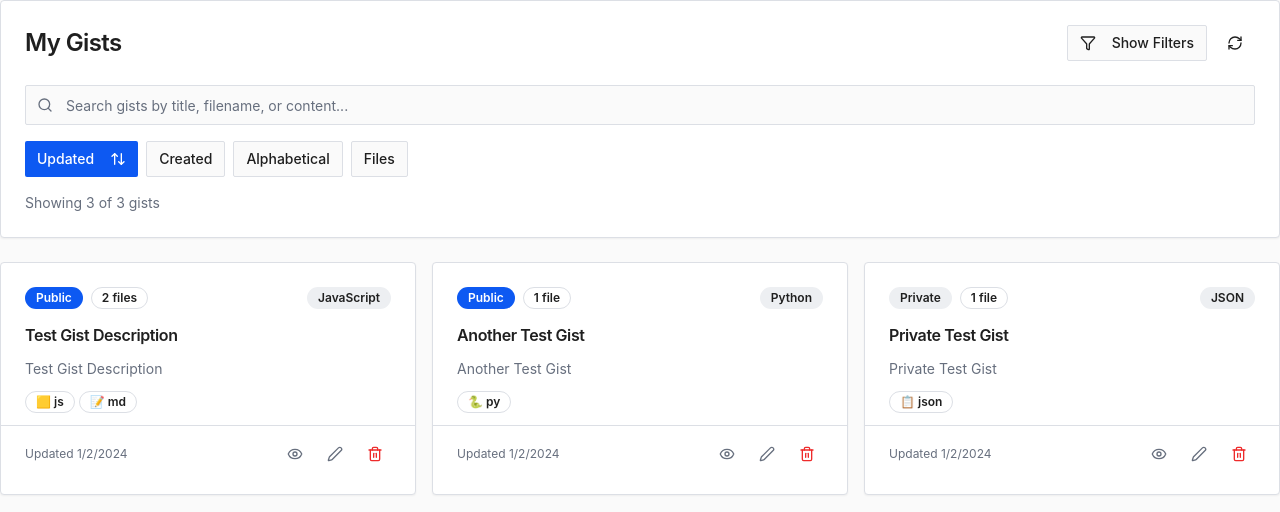
Test case: GistList › narrows visible gist cards and result count when a user searches
Type "another" into the field with placeholder "Search gists by title, filename, or content..." at point(640, 105), box x1=25 y1=85 x2=1255 y2=125
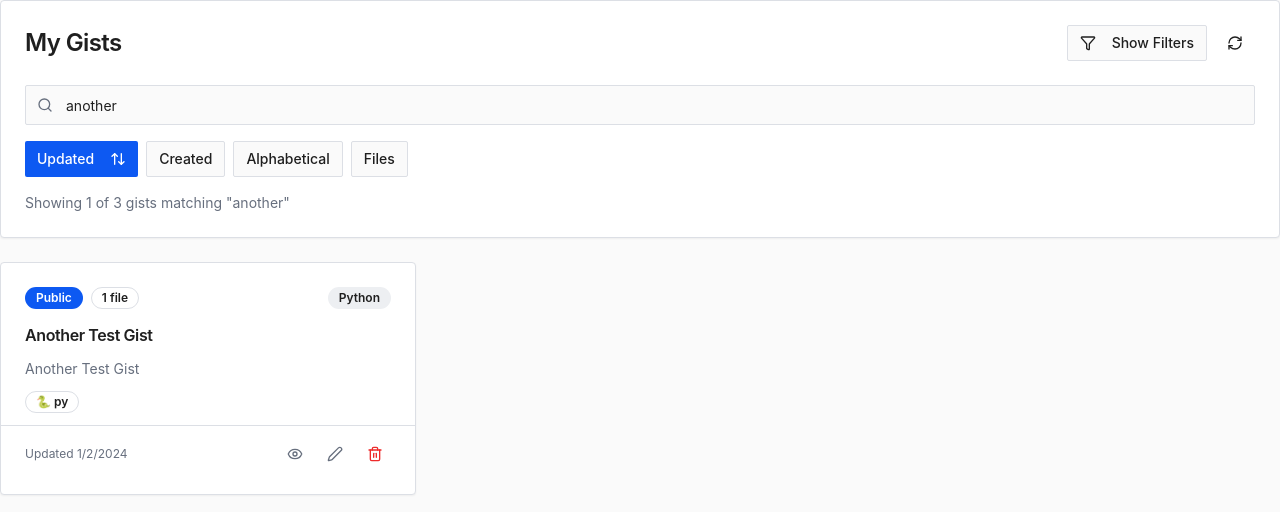
expect the heading "Another Test Gist" is shown: met, box x1=25 y1=325 x2=152 y2=345
expect the text "Showing 1 of 3 gists" is shown: met, box x1=25 y1=194 x2=290 y2=211
expect the link "Test Gist Description" is gone: met
